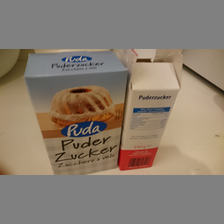tomato_sauce: (24, 50, 128, 175), (117, 50, 180, 170)
